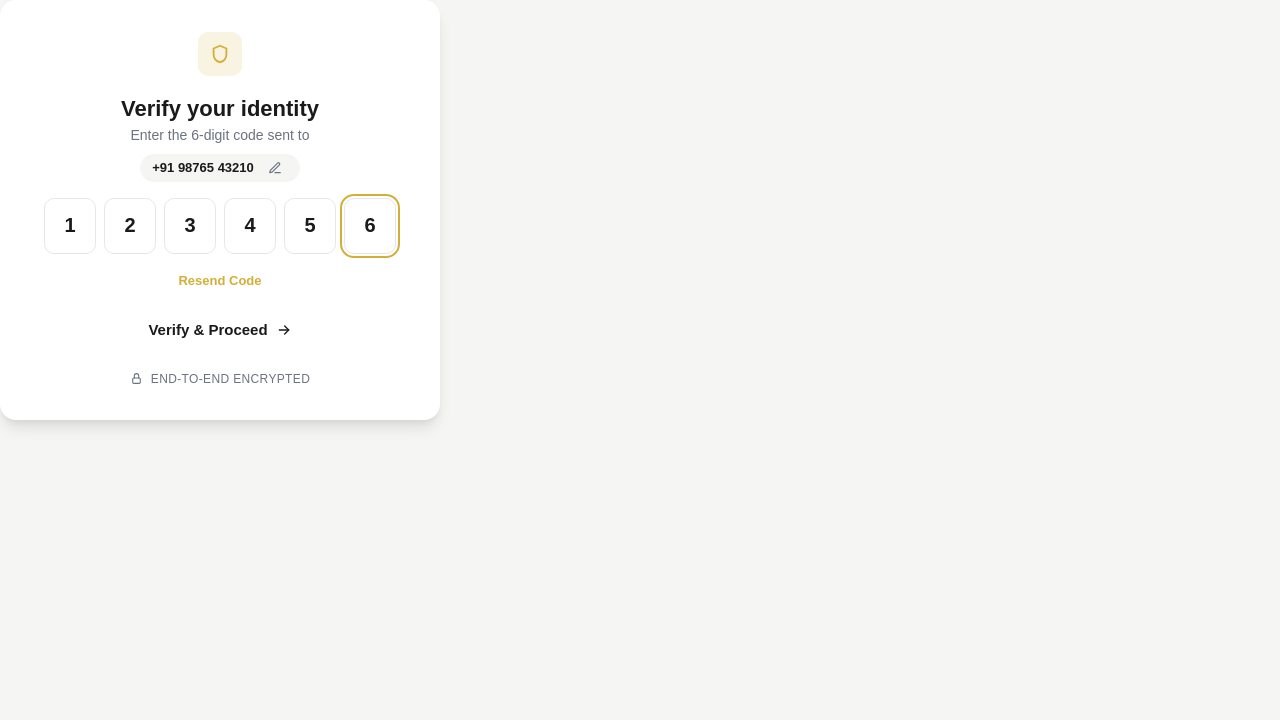
OtpForm › resending › resends, clears the code and restarts the cooldown
This screenshot has width=1280, height=720.
What coordinates should you click on to do the following:
click the button "Resend Code"
I would click on:
 (220, 280)
Its box is [172,270,268,291].
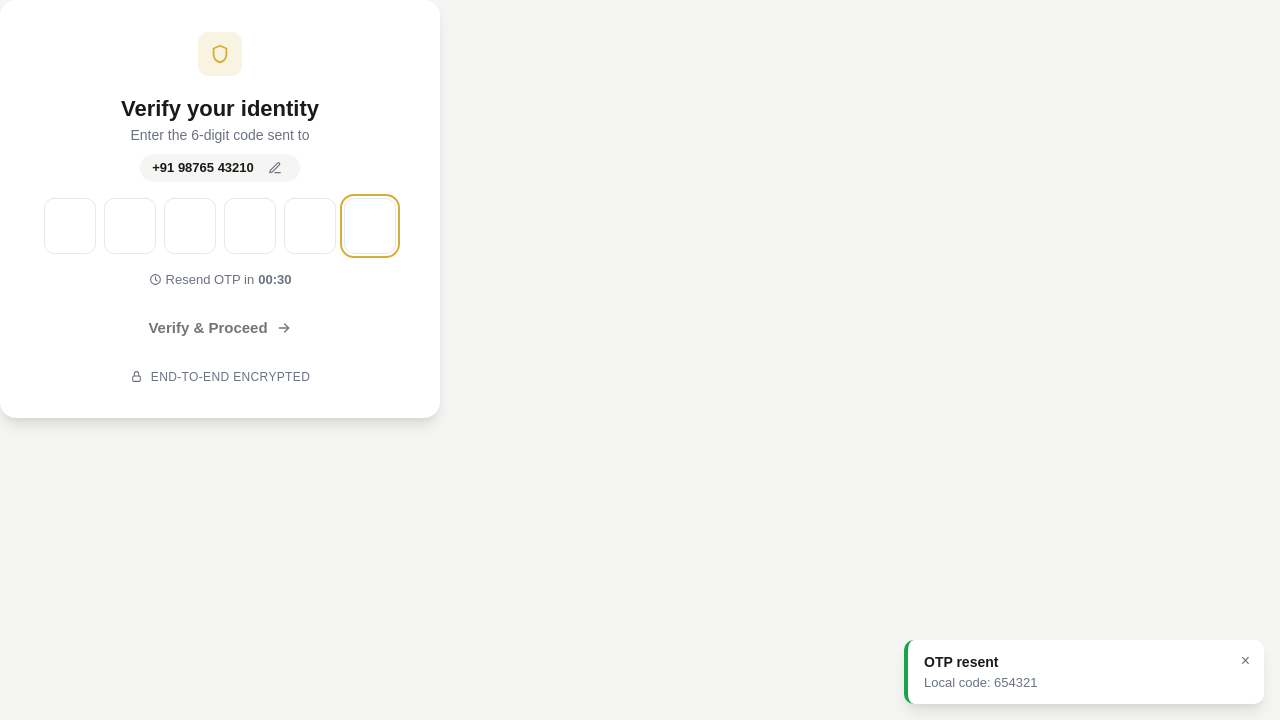
Expected: the text "OTP resent" is shown, [924,654,998,670]
Expected: the text "Local code: 654321" is shown, [924,674,1038,690]
Expected: the field named "Digit 1" is empty, [44,198,96,254]
